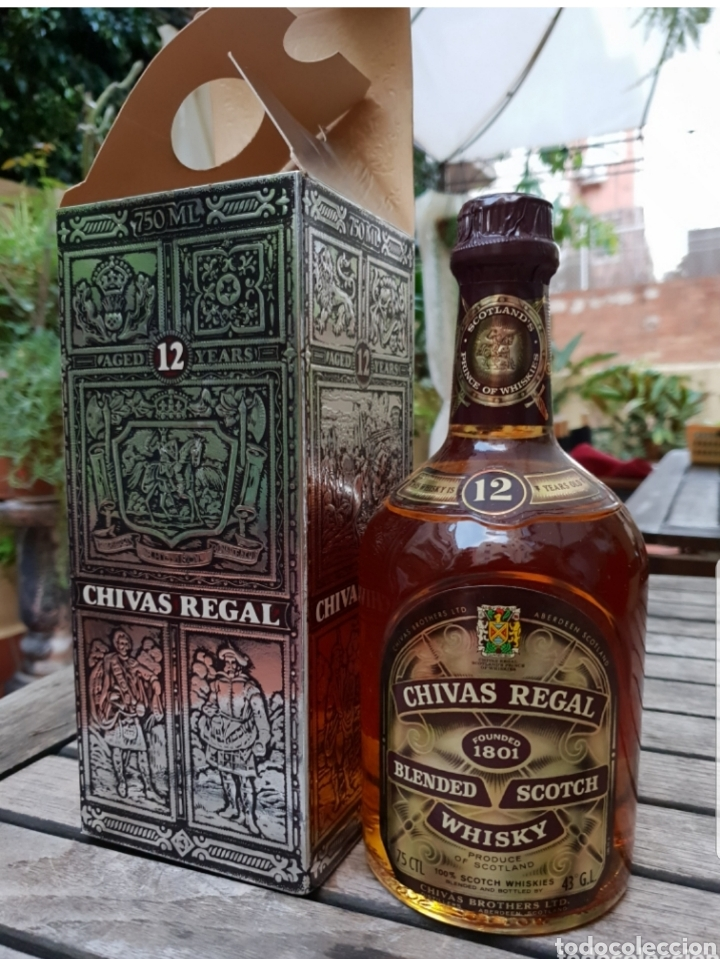Chivas Regal: (348, 184, 655, 942)
